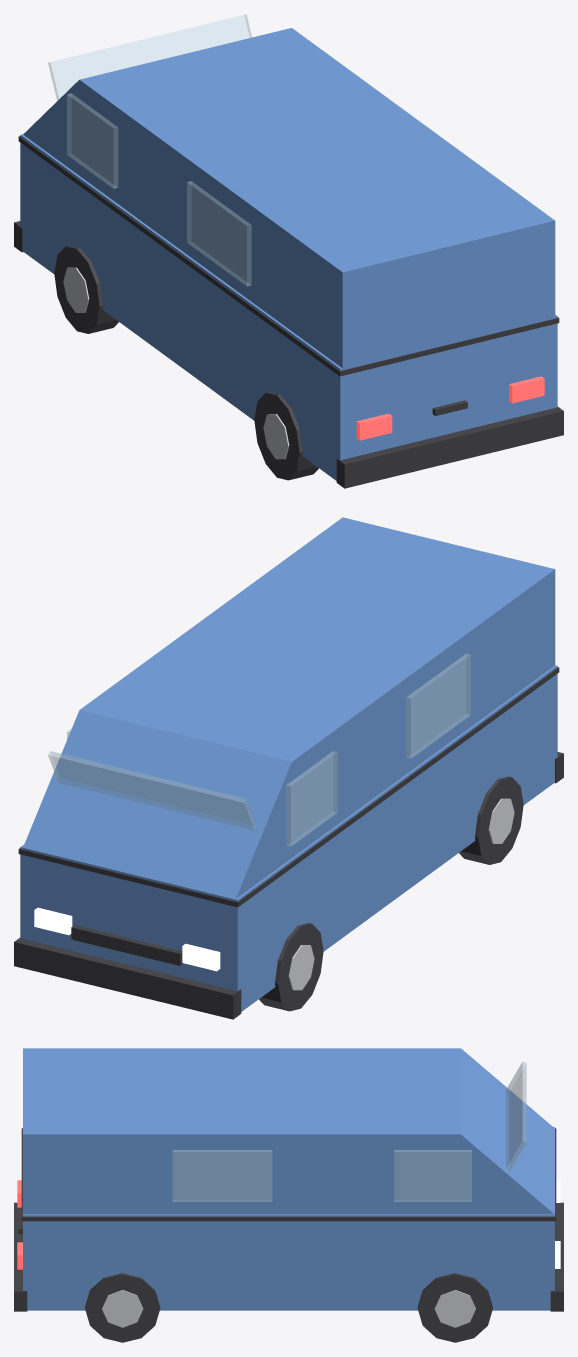
File: car_van_blue.glb
3 renders of one model, top to bottom at view 1: azimuth 30°, elevation 25°; view 2: azimuth 150°, elevation 25°; view 3: azimuth 270°, elevation 25°, orthographic. The views are drawn at different scales.
Visible parts, largest first — view 1: body, wheel_fl, wheel_rl; view 2: body, wheel_rl, wheel_fl; view 3: body, wheel_fr, wheel_rr.
Boxes of the visible parts, x1=… form: body: x1=14, y1=14, x2=563, y2=488; wheel_fl: x1=54, y1=245, x2=118, y2=333; wheel_rl: x1=254, y1=392, x2=318, y2=480; body: x1=14, y1=517, x2=563, y2=1019; wheel_rl: x1=459, y1=776, x2=523, y2=864; wheel_fl: x1=259, y1=923, x2=323, y2=1011; body: x1=14, y1=1048, x2=563, y2=1311; wheel_fr: x1=417, y1=1273, x2=492, y2=1342; wheel_rr: x1=85, y1=1273, x2=160, y2=1342.
Bounding box in the file's own units: 1.96 × 2.12 × 4.96.
